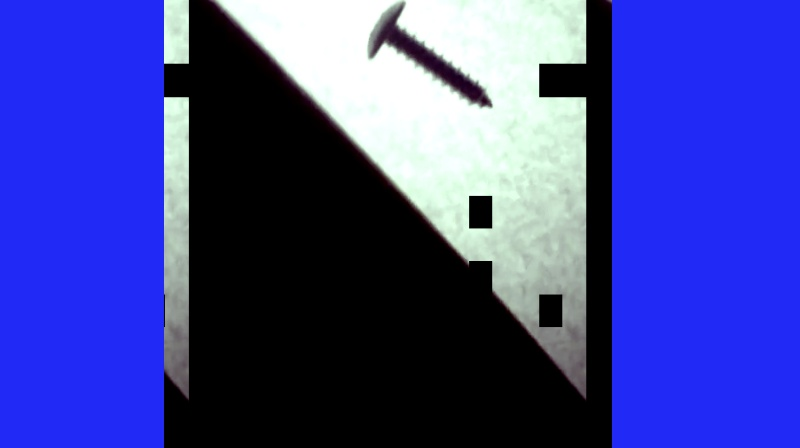S003: (362, 0, 495, 112)
